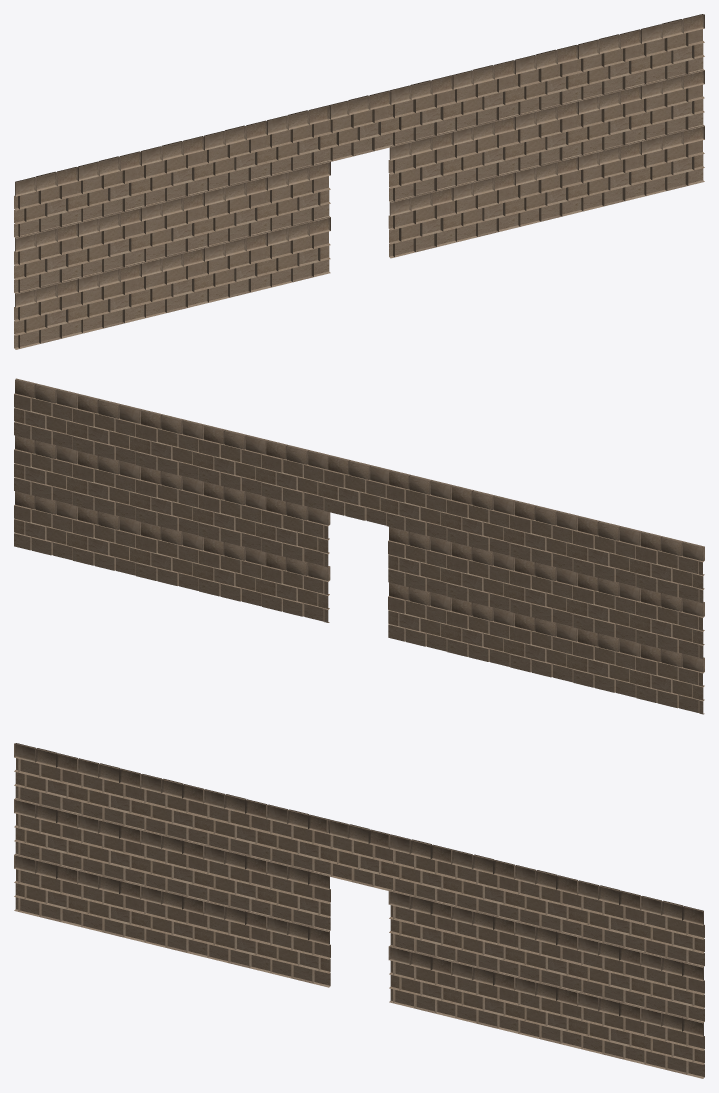
Rendered from WallWithdoor.fbx.
3 views of the same model, one above another, from view 1: azimuth 30°, elevation 25°; view 2: azimuth 150°, elevation 25°; view 3: azimuth 330°, elevation 25° (orthographic).
Visible parts, largest first — view 1: M_Wall37_MedievalDiningRoom_FinalScene2:blinn6_0; view 2: M_Wall37_MedievalDiningRoom_FinalScene2:blinn6_0; view 3: M_Wall37_MedievalDiningRoom_FinalScene2:blinn6_0.
Part boxes in pixels (box(x1,y1,x2,y2)): M_Wall37_MedievalDiningRoom_FinalScene2:blinn6_0: box(14, 14, 704, 349); M_Wall37_MedievalDiningRoom_FinalScene2:blinn6_0: box(14, 378, 704, 714); M_Wall37_MedievalDiningRoom_FinalScene2:blinn6_0: box(14, 743, 704, 1078).
Size of the model in its own units: 399 by 92.47 by 2.01.
1 material, 1 textured.
